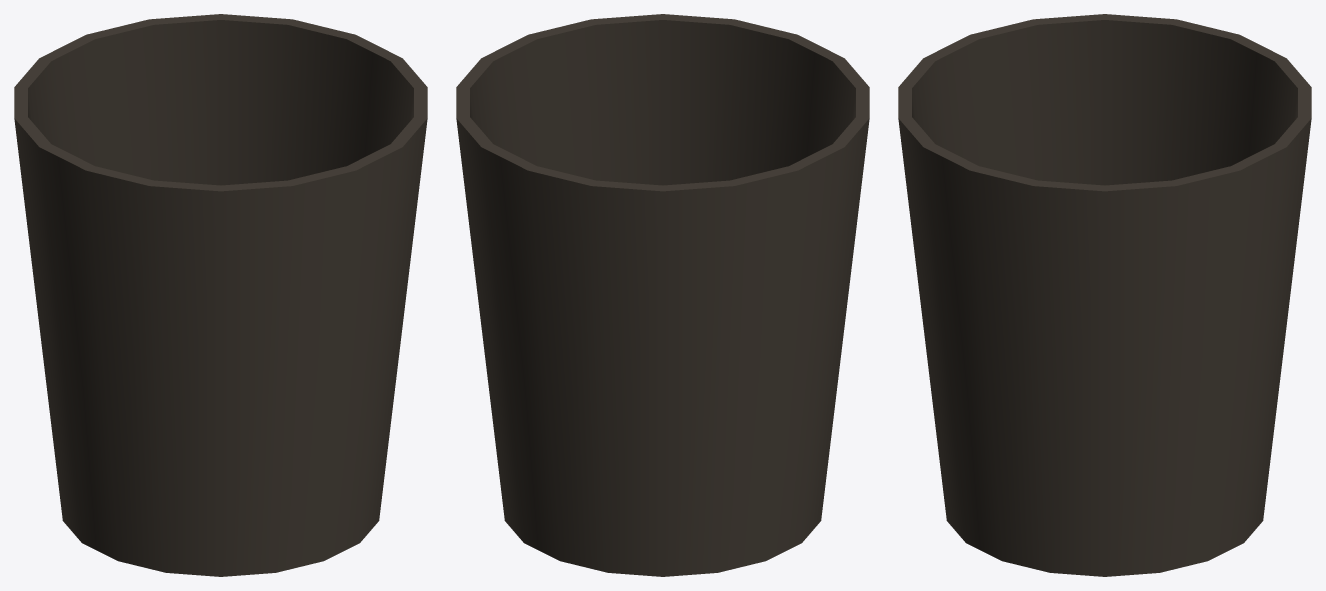
File: Bin.FBX
3 views of the same model, side by side, from view 1: azimuth 30°, elevation 25°; view 2: azimuth 150°, elevation 25°; view 3: azimuth 270°, elevation 25° (orthographic).
Parts seen in each view (by area): view 1: Bin; view 2: Bin; view 3: Bin.
Part boxes in pixels (x1,y1,x2,y2): Bin: (14,14,427,576); Bin: (456,14,869,576); Bin: (898,14,1311,576).
Size of the model in its own units: 293 by 313 by 289.
Materials: 1 (1 with a texture image).
